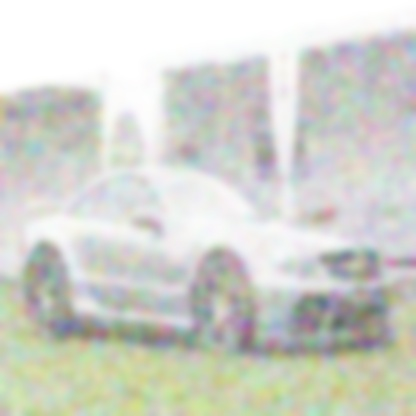Vehicle: (12, 154, 401, 360)
